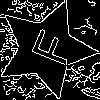F: (21, 23, 76, 69)
